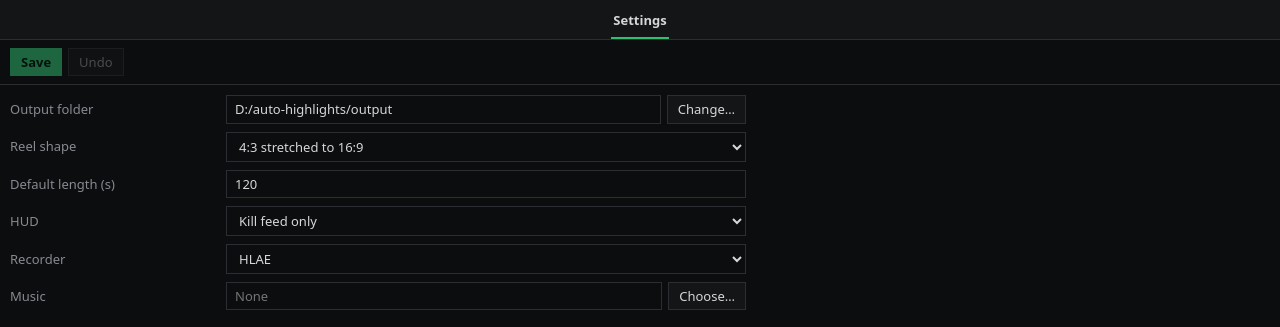
only changed settings are saved, under their config keys
This screenshot has width=1280, height=327.
Expected: the button "Save" is disabled, [10, 48, 62, 76]
Select "9:16 vertical" in the dropdown named "Reel shape" at [486, 147], box [226, 132, 746, 162]
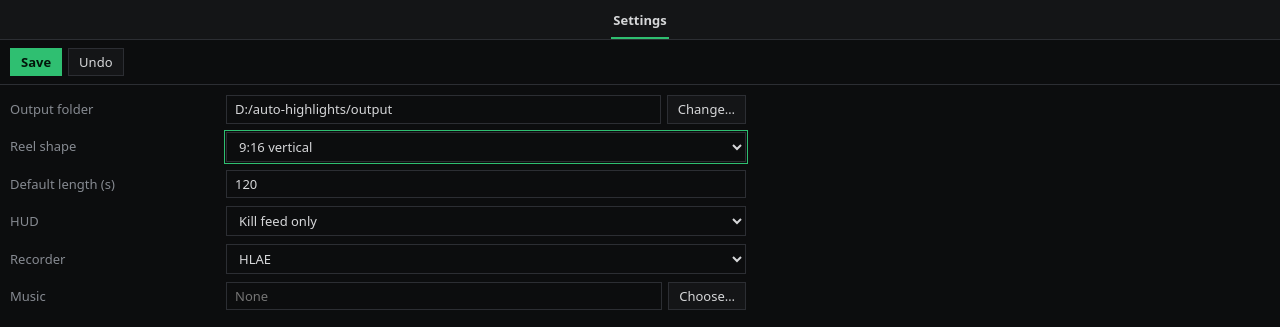
Click the button "Change…" at [706, 110], box [667, 95, 746, 124]
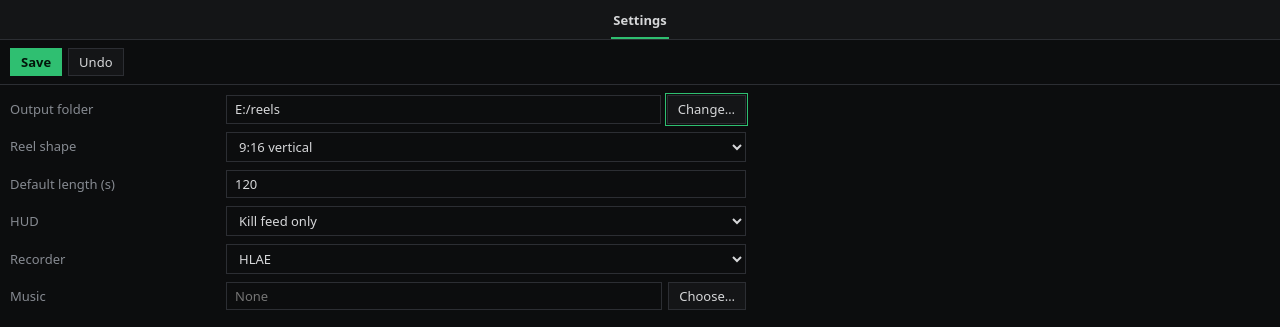
Expected: the field named "Output folder" holds "E:/reels", [226, 95, 661, 124]
Click the button "Save" at [36, 62], box [10, 48, 62, 76]
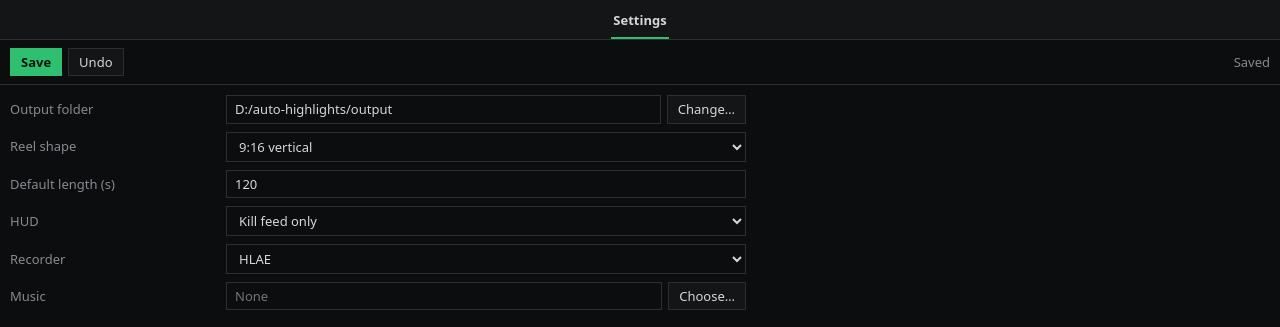
Expected: the text "Saved" is shown, [1234, 53, 1270, 71]
